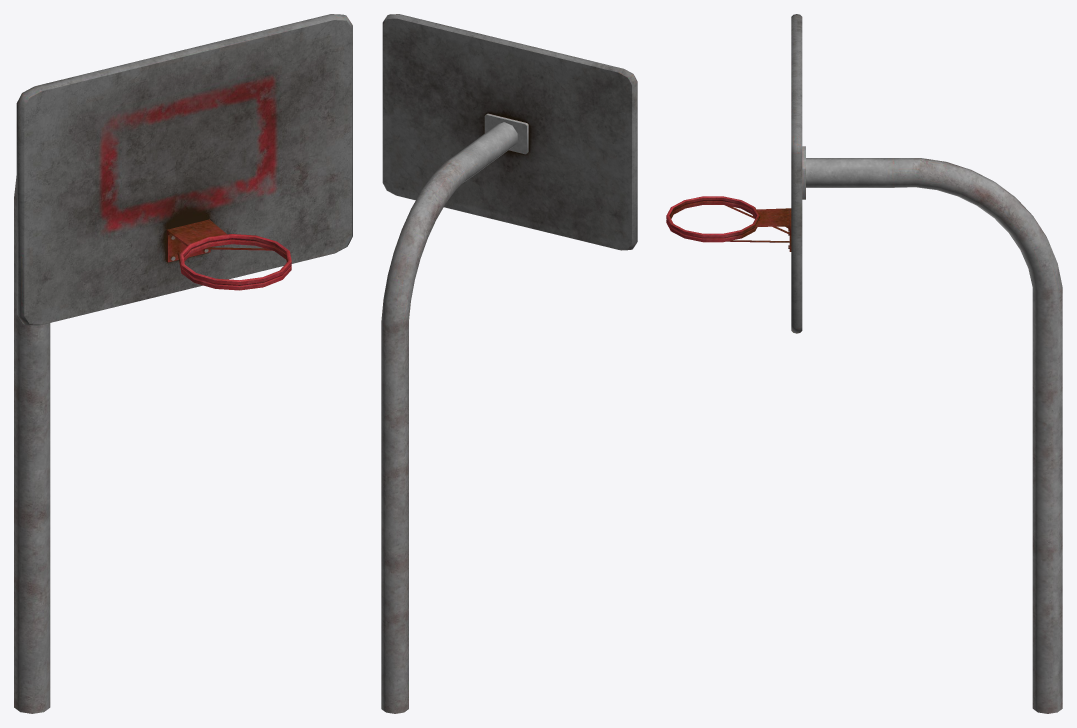
The picture shows the model from 3 angles, left to right: view 1: azimuth 30°, elevation 25°; view 2: azimuth 150°, elevation 25°; view 3: azimuth 270°, elevation 25°; orthographic projection. The views are drawn at different scales.
Visible parts, largest first — view 1: defaultMaterial; view 2: defaultMaterial; view 3: defaultMaterial.
Part boxes in pixels (box(x1,y1,x2,y2)): defaultMaterial: box(14, 14, 352, 713); defaultMaterial: box(381, 14, 637, 713); defaultMaterial: box(666, 14, 1062, 713).
Bounding box in the file's own units: 2.09 × 4.58 × 2.61.
Materials: 1 (1 with a texture image).
